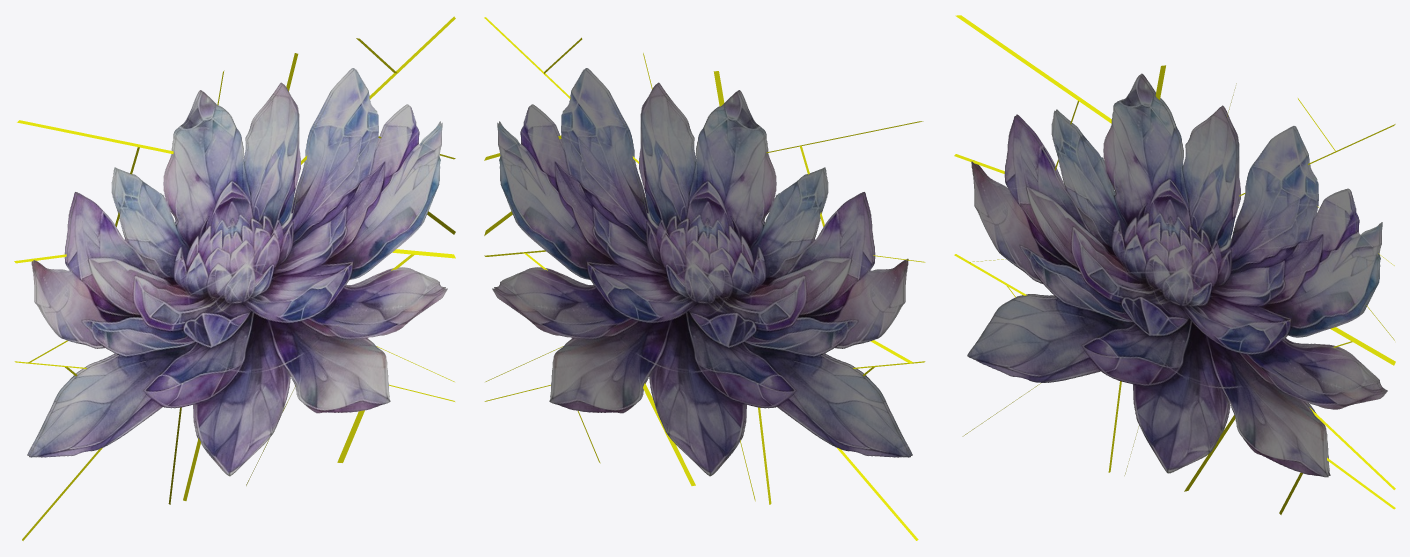
File: shattered.fbx
3 renders of one model, left to right at view 1: azimuth 30°, elevation 25°; view 2: azimuth 150°, elevation 25°; view 3: azimuth 330°, elevation 25°, orthographic.
Visible parts, largest first — view 1: shard15, shard6, shard11, shard20, shard23, shard17, shard12, shard5, shard2, shard22, shard4, shard7 (+12 smaller); view 2: shard6, shard15, shard20, shard11, shard23, shard17, shard12, shard5, shard2, shard22, shard4, shard7 (+12 smaller); view 3: shard15, shard6, shard11, shard20, shard23, shard17, shard12, shard5, shard7, shard2, shard22, shard4 (+12 smaller).
Boxes of the visible parts, x1=… form: shard15: x1=252, y1=137, x2=400, y2=249; shard6: x1=14, y1=239, x2=201, y2=363; shard11: x1=195, y1=54, x2=297, y2=240; shard20: x1=29, y1=267, x2=198, y2=377; shard23: x1=206, y1=298, x2=329, y2=421; shard17: x1=110, y1=144, x2=207, y2=251; shard12: x1=183, y1=360, x2=305, y2=500; shard5: x1=234, y1=240, x2=340, y2=312; shard2: x1=168, y1=237, x2=217, y2=504; shard22: x1=15, y1=361, x2=128, y2=538; shard4: x1=261, y1=38, x2=397, y2=201; shard7: x1=328, y1=251, x2=455, y2=381; shard6: x1=738, y1=238, x2=925, y2=363; shard15: x1=542, y1=139, x2=688, y2=246; shard20: x1=741, y1=268, x2=912, y2=377; shard11: x1=644, y1=57, x2=741, y2=238; shard23: x1=612, y1=299, x2=735, y2=422; shard17: x1=728, y1=146, x2=829, y2=250; shard12: x1=632, y1=359, x2=754, y2=496; shard5: x1=599, y1=237, x2=707, y2=313; shard2: x1=722, y1=236, x2=771, y2=504; shard22: x1=812, y1=361, x2=923, y2=539; shard4: x1=544, y1=37, x2=680, y2=202; shard7: x1=484, y1=252, x2=611, y2=381; shard15: x1=1190, y1=183, x2=1338, y2=307; shard6: x1=954, y1=156, x2=1139, y2=262; shard11: x1=1133, y1=65, x2=1227, y2=240; shard20: x1=967, y1=249, x2=1136, y2=352; shard23: x1=1144, y1=311, x2=1267, y2=407; shard17: x1=1048, y1=98, x2=1145, y2=219; shard12: x1=1139, y1=383, x2=1243, y2=491; shard5: x1=1172, y1=248, x2=1278, y2=343; shard7: x1=1266, y1=339, x2=1395, y2=489; shard2: x1=1108, y1=223, x2=1155, y2=473; shard22: x1=956, y1=254, x2=1066, y2=425; shard4: x1=1199, y1=83, x2=1335, y2=214.
Size of the model in its own units: 1340 by 1223 by 10.
